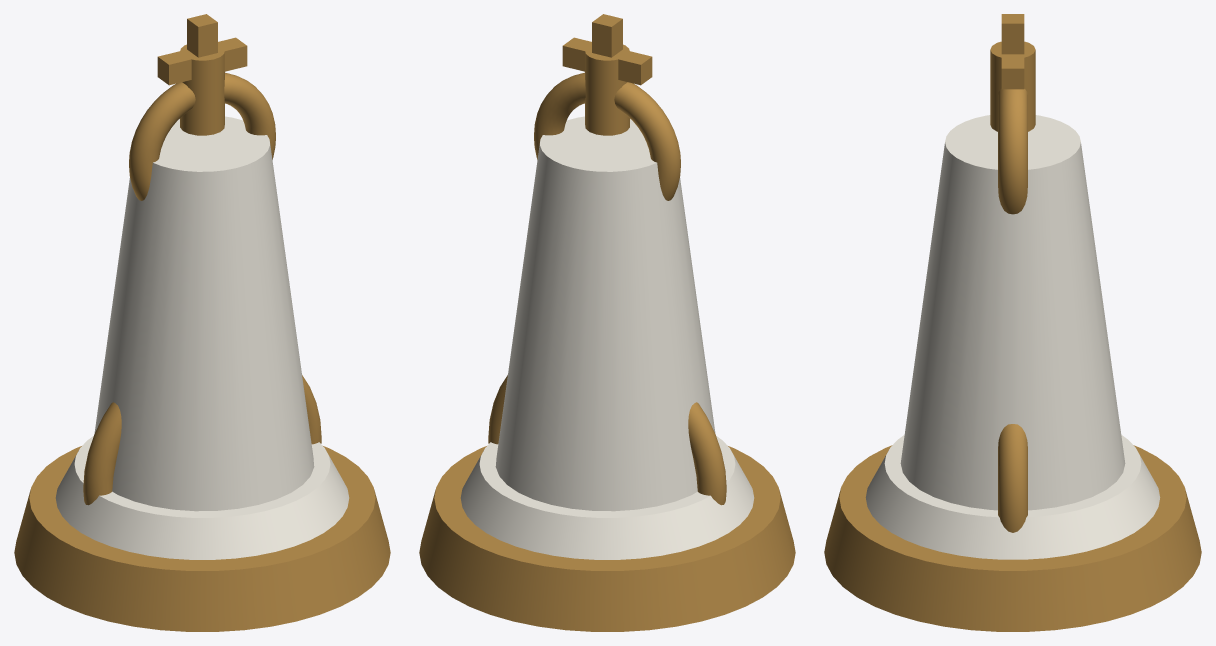
3 views of the same model, side by side, from view 1: azimuth 30°, elevation 25°; view 2: azimuth 150°, elevation 25°; view 3: azimuth 270°, elevation 25° (orthographic).
Bounding box in the file's own units: 0.9972 × 1.66 × 1.
